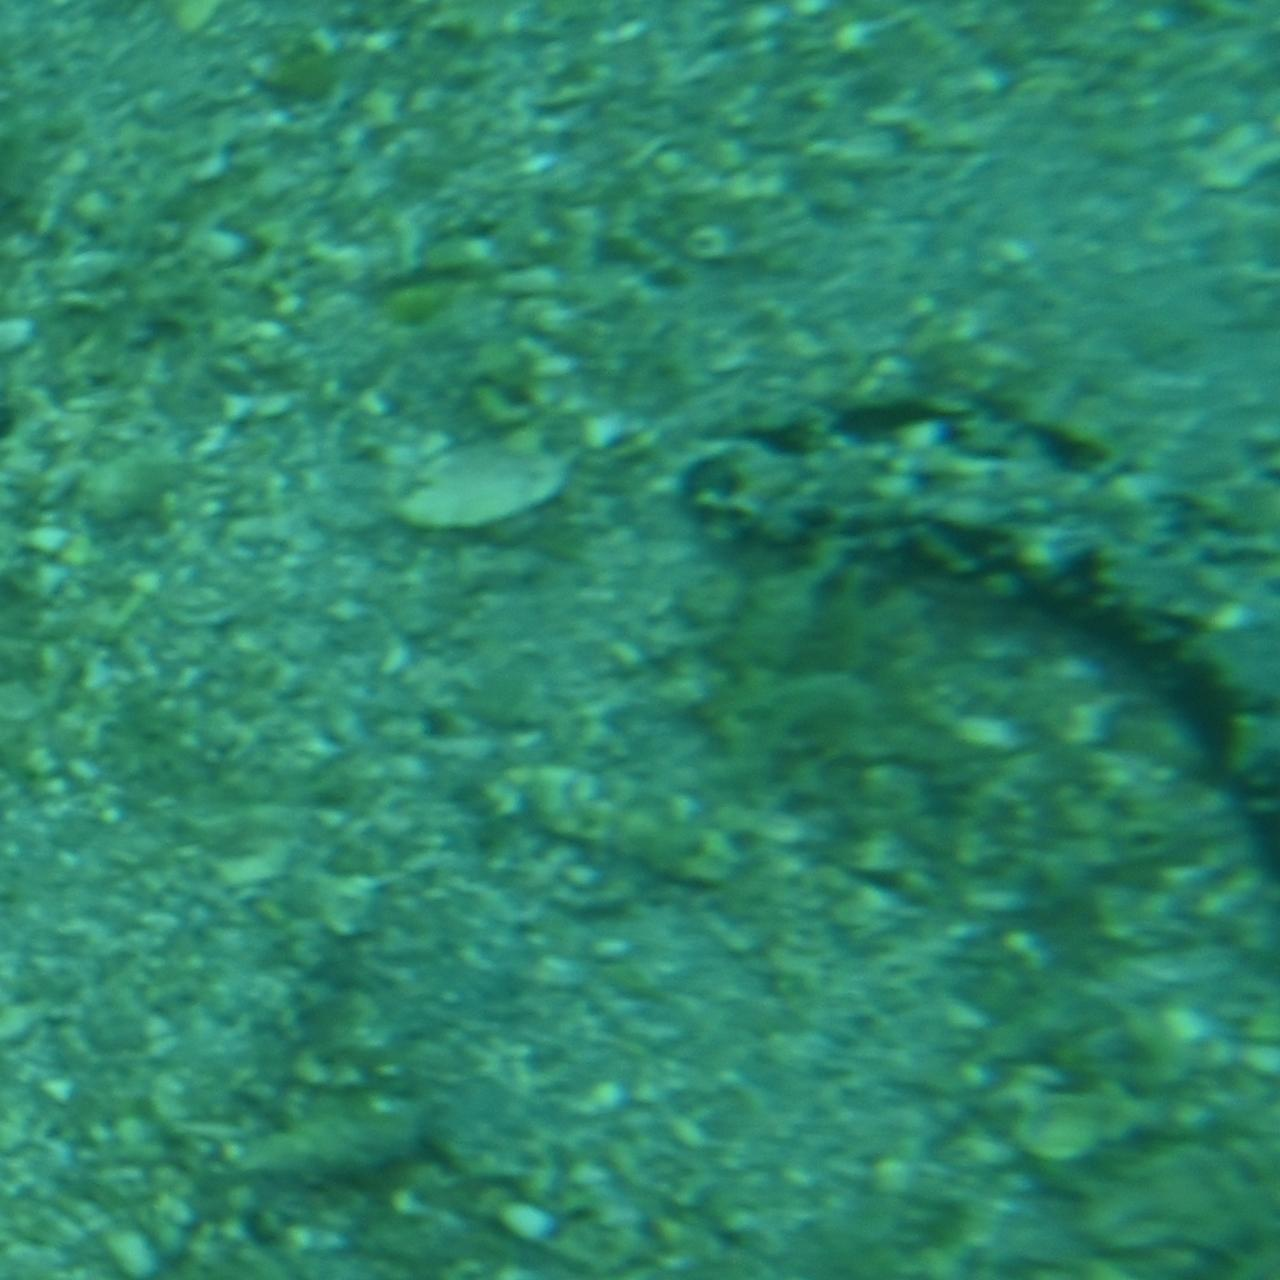Holothuria tubulosa: (665, 376, 1279, 904)
